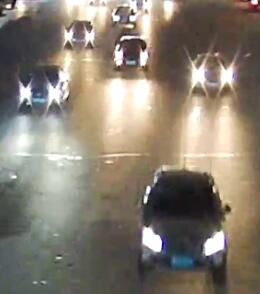car: (137, 164, 232, 280), (19, 64, 70, 104), (188, 50, 235, 91), (112, 36, 147, 67), (62, 18, 94, 46), (111, 4, 138, 25)
